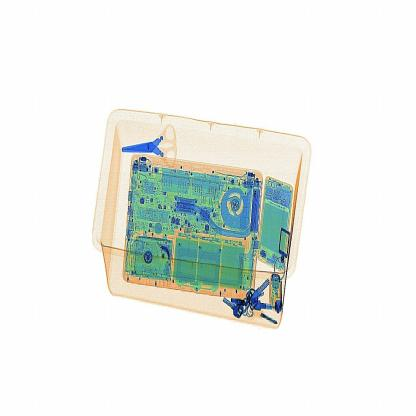gun: (119, 115, 182, 174)
